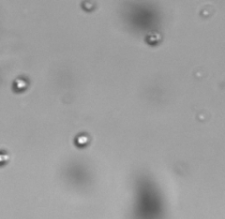Dead Cell: (146, 31, 163, 45), (81, 1, 97, 11)
Living Cell: (74, 132, 91, 147), (13, 76, 27, 92), (1, 150, 9, 166)
